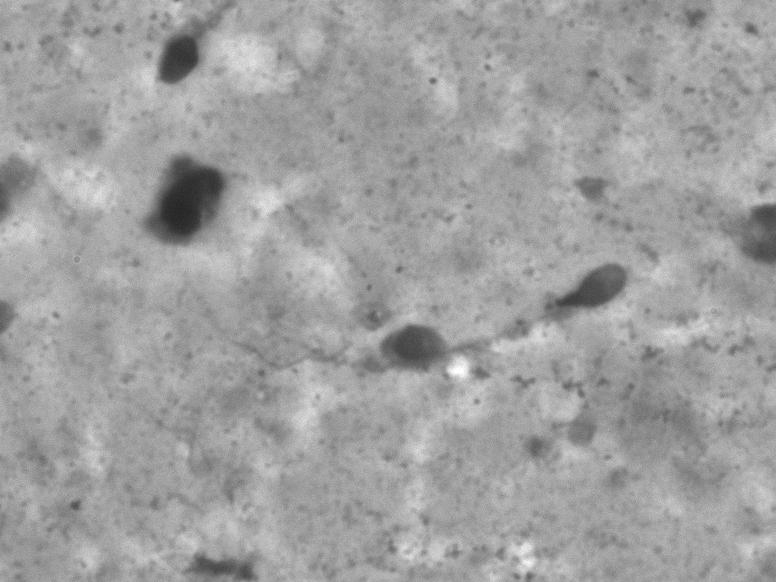Abnormal: (171, 246, 663, 409)
